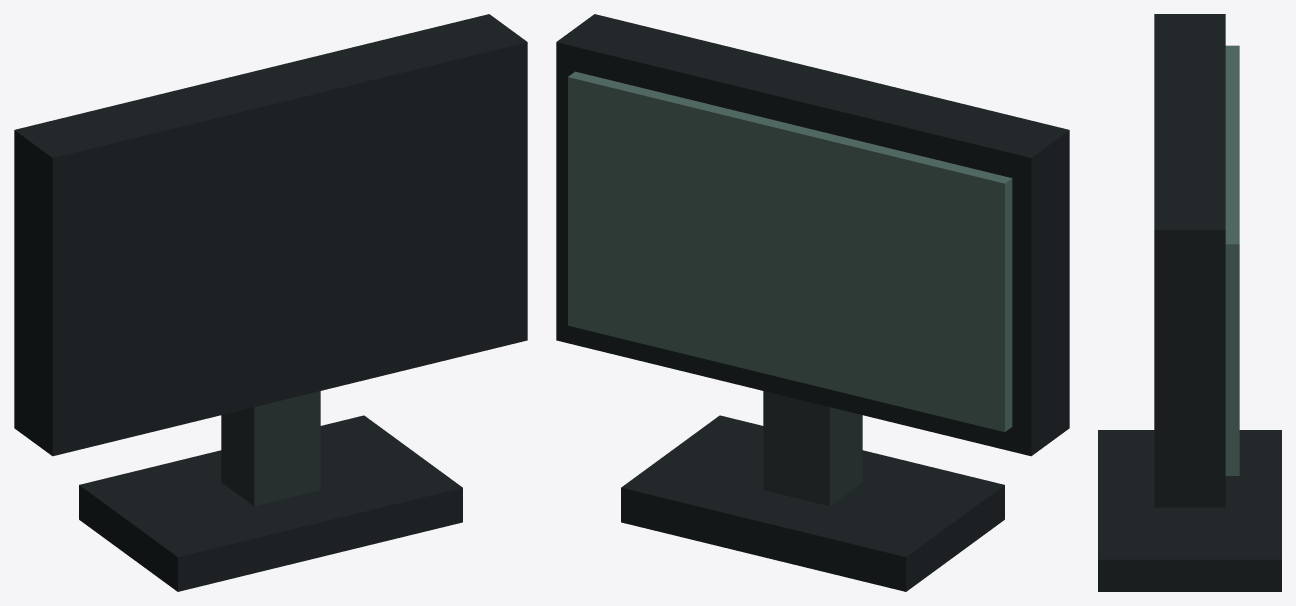
Rendered from monitor.glb.
3 renders of one model, left to right at view 1: azimuth 30°, elevation 25°; view 2: azimuth 150°, elevation 25°; view 3: azimuth 270°, elevation 25°, orthographic. The views are drawn at different scales.
Visible parts, largest first — view 1: monitor; view 2: monitor; view 3: monitor.
Part boxes in pixels (<box>): monitor: <box>14,14,527,591</box>; monitor: <box>556,14,1069,591</box>; monitor: <box>1098,14,1281,591</box>.
Bounding box in the file's own units: 0.5 × 0.4375 × 0.18.
